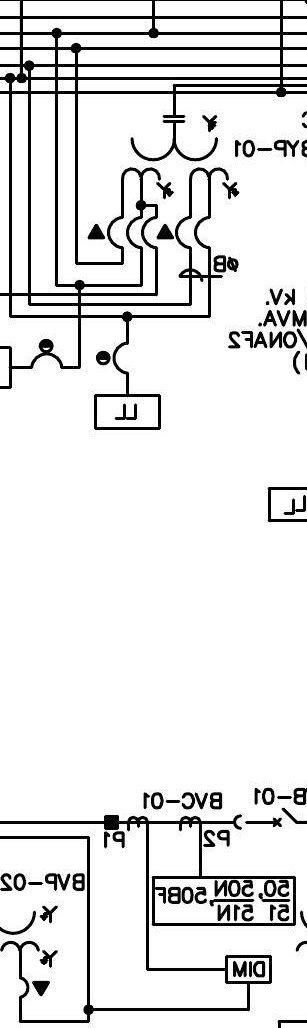115_cvt_3p: (120, 115, 240, 200)
DIM: (225, 955, 272, 984)
LL: (94, 394, 161, 430)
